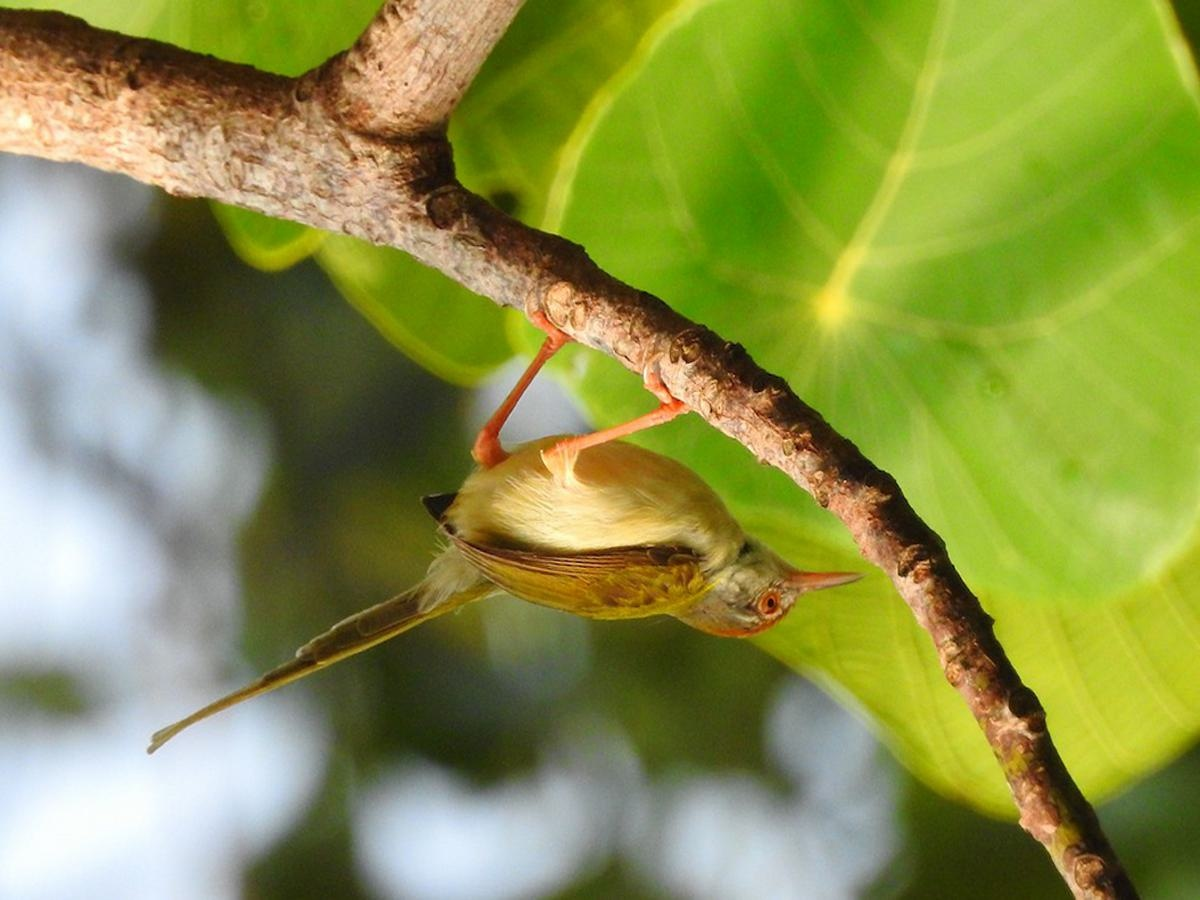tailorbird: (110, 372, 860, 715)
